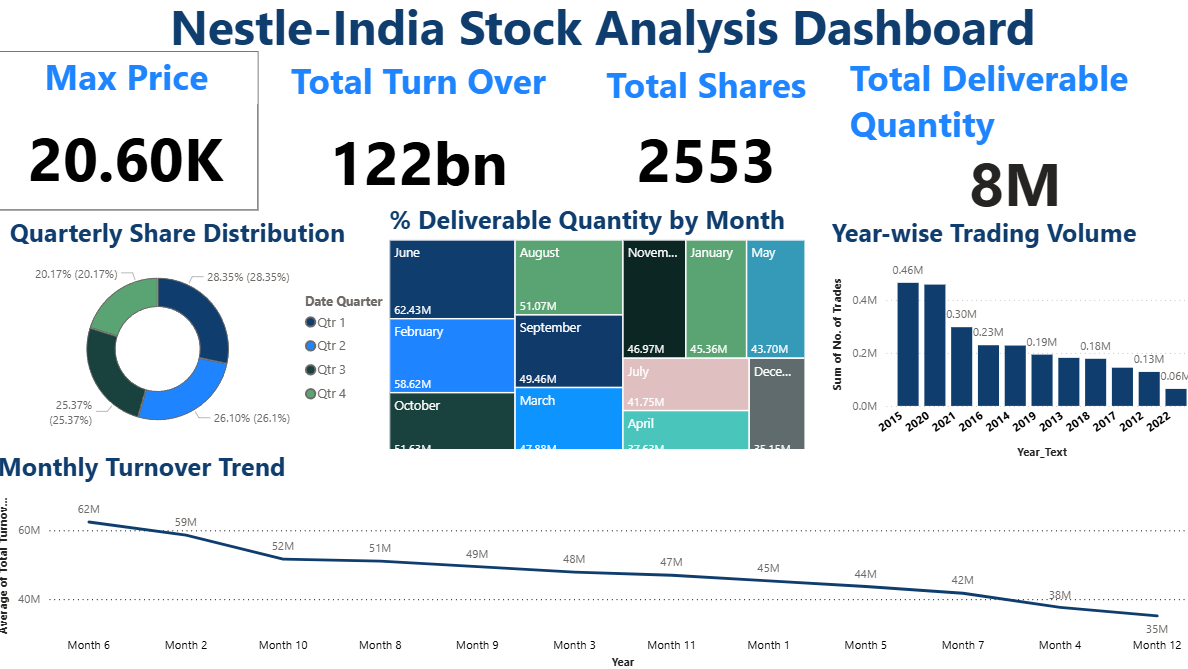

What the dashboard file says about the page in this screenshot:
{"tool":"powerbi","page":{"name":"Nestle stock dashboard","canvas":[1280,720],"ordinal":4},"visuals":[{"type":"card","title":"Total Turn Over","fields":{"Values":["Sum(Clened_Nestle_EDA.Total Turnover (Rs.))"]},"box":[323.2,11.3,291,166.3],"z":0},{"type":"card","title":"Max Price","fields":{"Values":["Max(Clened_Nestle_EDA.High Price)"]},"box":[25.9,12,283,167.4],"z":1000},{"type":"card","title":"Total Deliverable Quantity","fields":{"Values":["Sum(Clened_Nestle_EDA.Average Deliverable Quantity)"]},"box":[910.9,11.3,334.5,168.2],"z":2000},{"type":"card","title":"Total Shares","fields":{"Values":["CountNonNull(Clened_Nestle_EDA.No.of Shares)"]},"box":[614.2,13.2,292.9,151.2],"z":3000},{"type":"qnaVisual","box":[695.5,13.9,13.9,15.9],"z":4000},{"type":"textbox","box":[1201.6,0,77.7,21.9],"z":5000},{"type":"donutChart","title":"Quarterly Share Distribution","fields":{"Y":["Sum(Clened_Nestle_EDA.No.of Shares)"],"Category":["Clened_Nestle_EDA.Date.Variation.Date Hierarchy.Quarter"]},"box":[25.9,205.3,422.5,249.1],"z":6000},{"type":"treemap","title":"% Deliverable Quantity by Month","fields":{"Values":["Avg(Clened_Nestle_EDA.Average_monthly_turnover)"],"Group":["Clened_Nestle_EDA.Date.Variation.Date Hierarchy.Month"]},"box":[417.6,192.8,449.8,275.9],"z":7000},{"type":"lineChart","title":"Monthly Turnover Trend","fields":{"Category":["Clened_Nestle_EDA.Month_Text"],"Y":["Avg(Clened_Nestle_EDA.Total Turnover (Rs.))"]},"box":[0,481.9,1277.5,238.1],"z":8000},{"type":"lineChart","title":"Average Turnover Trends","fields":{"Category":["Clened_Nestle_EDA.Month_Text"],"Y":["Avg(Clened_Nestle_EDA.Total Turnover (Rs.))","Sum(Clened_Nestle_EDA.Open Price)"]},"box":[1261.4,635.7,17.9,83.7],"z":9000},{"type":"lineChart","title":"Average Turnover Trends","fields":{"Category":["Clened_Nestle_EDA.Month_Text"],"Y":["Avg(Clened_Nestle_EDA.Total Turnover (Rs.))","Sum(Clened_Nestle_EDA.Open Price)"]},"box":[1262.1,636.3,17.9,83.7],"z":10000},{"type":"columnChart","title":"Year-wise Trading Volume","fields":{"Category":["Clened_Nestle_EDA.Year_Text"],"Y":["Sum(Clened_Nestle_EDA.No. of Trades)"]},"box":[880.6,206,396.9,262.7],"z":11000}]}

Visuals, with their boxes in screenshot pixels (x1, y1, x2, y2), scaled from the page's 1280x720 canvas onto the 1188x669 screenshot:
"Total Turn Over" card: bbox=[300, 10, 570, 165]
"Max Price" card: bbox=[24, 11, 287, 167]
"Total Deliverable Quantity" card: bbox=[845, 10, 1156, 167]
"Total Shares" card: bbox=[570, 12, 842, 153]
qnaVisual: bbox=[646, 13, 658, 28]
textbox: bbox=[1115, 0, 1187, 20]
"Quarterly Share Distribution" donutChart: bbox=[24, 191, 416, 422]
"% Deliverable Quantity by Month" treemap: bbox=[388, 179, 805, 436]
"Monthly Turnover Trend" lineChart: bbox=[0, 448, 1186, 668]
"Average Turnover Trends" lineChart: bbox=[1171, 591, 1187, 668]
"Average Turnover Trends" lineChart: bbox=[1171, 591, 1187, 668]
"Year-wise Trading Volume" columnChart: bbox=[817, 191, 1186, 436]
